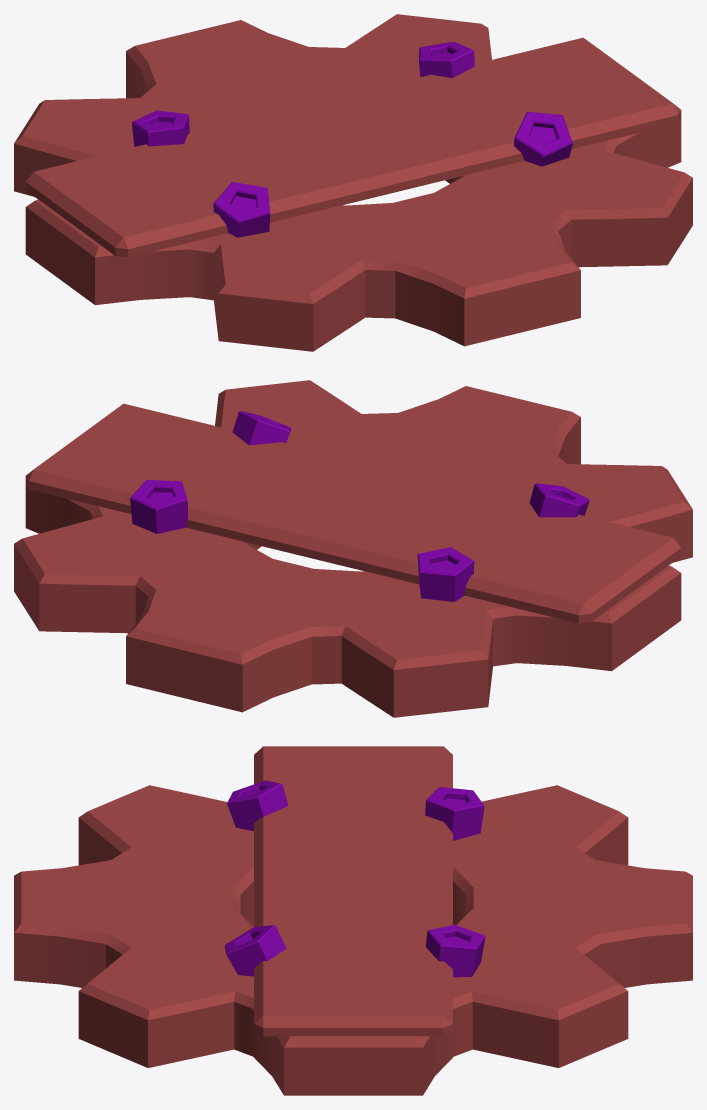
File: geo_Plateforme_Tournante.fbx
The picture shows the model from 3 angles, top to bottom: view 1: azimuth 30°, elevation 25°; view 2: azimuth 150°, elevation 25°; view 3: azimuth 270°, elevation 25°; orthographic projection.
Parts seen in each view (by area): view 1: geo_Plateforme_Tournante, geo_boulon4, geo_boulon1, geo_boulon2, geo_boulon3; view 2: geo_Plateforme_Tournante, geo_boulon3, geo_boulon2, geo_boulon1, geo_boulon4; view 3: geo_Plateforme_Tournante, geo_boulon2, geo_boulon3, geo_boulon1, geo_boulon4.
Part boxes in pixels (box(x1,y1,x2,y2)): geo_Plateforme_Tournante: box(14, 14, 692, 351); geo_boulon4: box(513, 111, 572, 166); geo_boulon1: box(213, 182, 270, 237); geo_boulon2: box(131, 110, 189, 146); geo_boulon3: box(418, 41, 474, 77); geo_Plateforme_Tournante: box(14, 380, 692, 717); geo_boulon3: box(130, 480, 187, 533); geo_boulon2: box(417, 547, 474, 601); geo_boulon1: box(529, 483, 589, 517); geo_boulon4: box(232, 411, 291, 445); geo_Plateforme_Tournante: box(14, 746, 692, 1095); geo_boulon2: box(425, 787, 484, 840); geo_boulon3: box(426, 924, 485, 977); geo_boulon1: box(227, 780, 288, 831); geo_boulon4: box(225, 925, 286, 976).
Bounding box in the file's own units: 3.04 × 0.4589 × 3.04.
